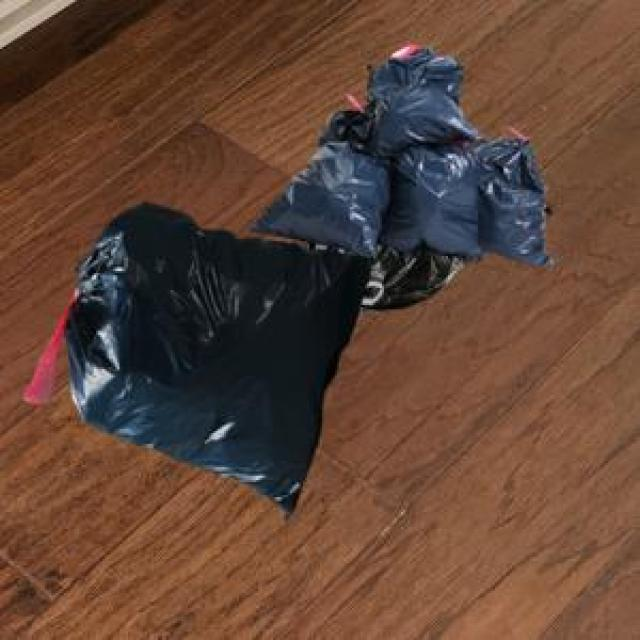Trashbag: (60, 231, 352, 505), (252, 136, 389, 248), (360, 50, 484, 163), (377, 137, 490, 260), (475, 132, 553, 274)
